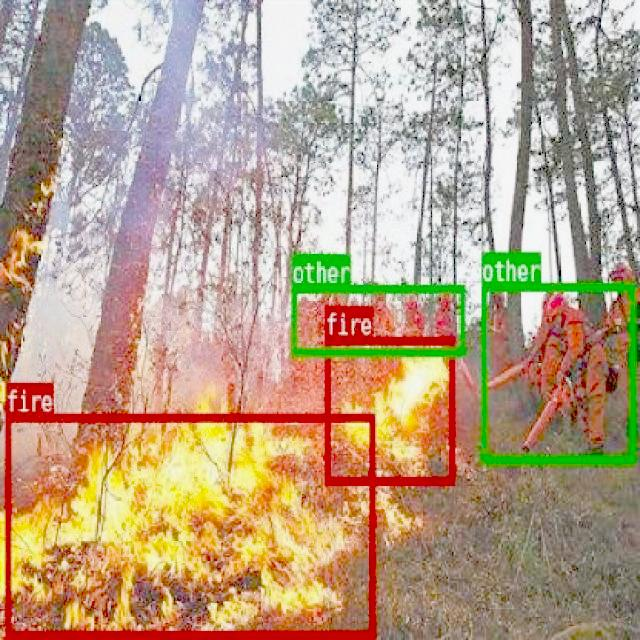fire: (4, 413, 373, 636), (324, 335, 454, 483)
